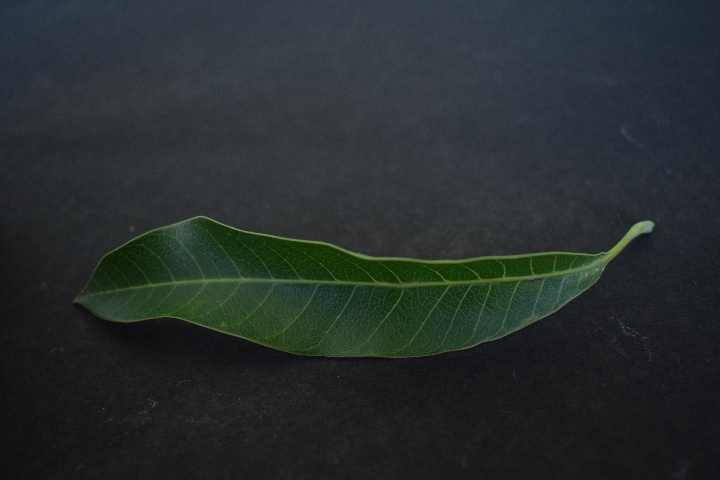healthy: (85, 203, 601, 373)
